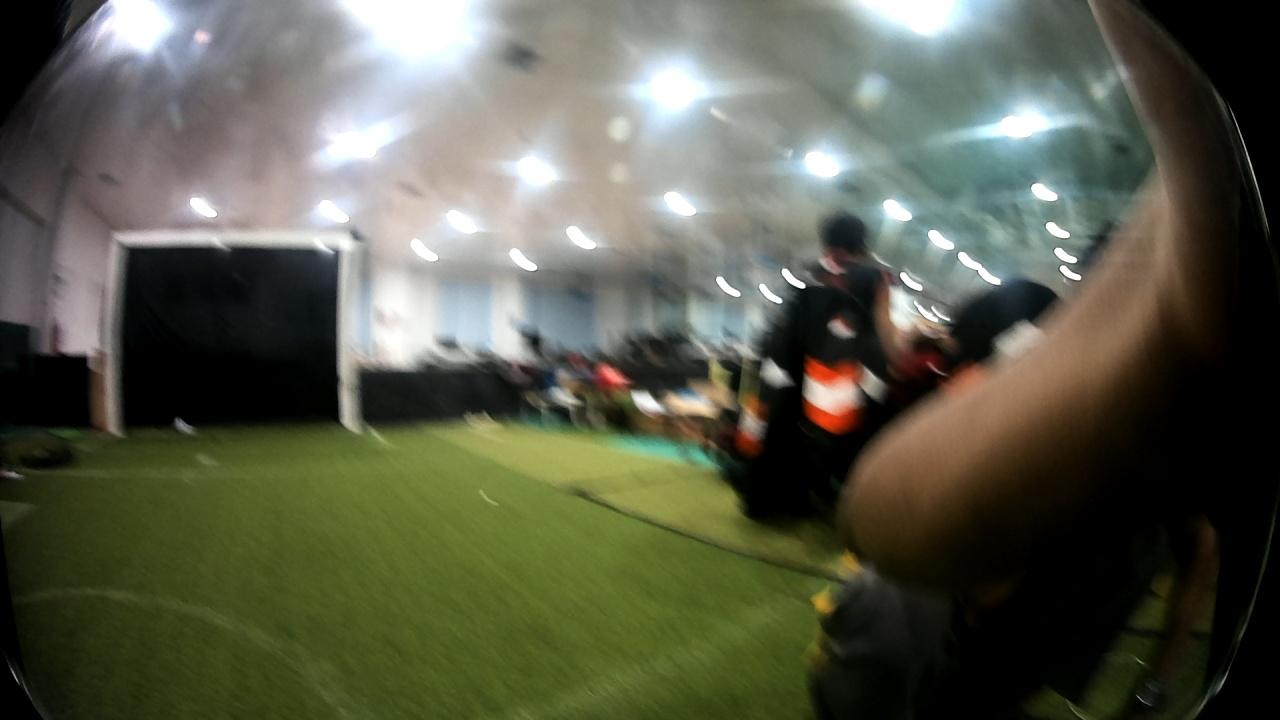ball: (171, 412, 199, 437)
